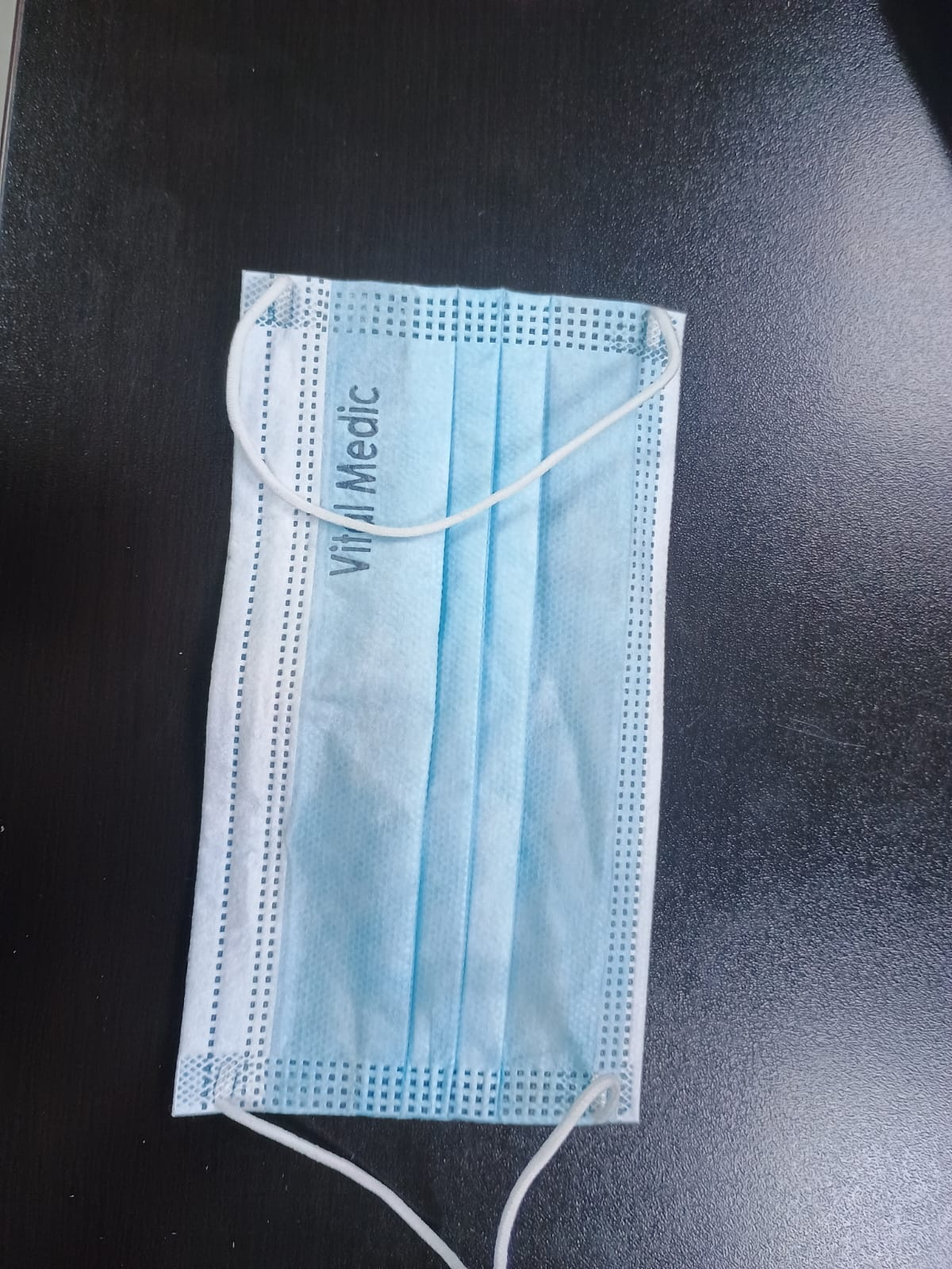Ordinario: (172, 271, 689, 1129)
